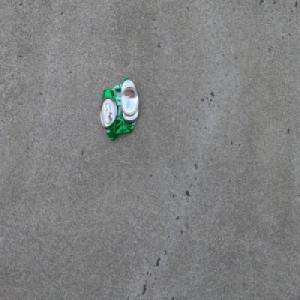SodaCan: (99, 77, 139, 141)
